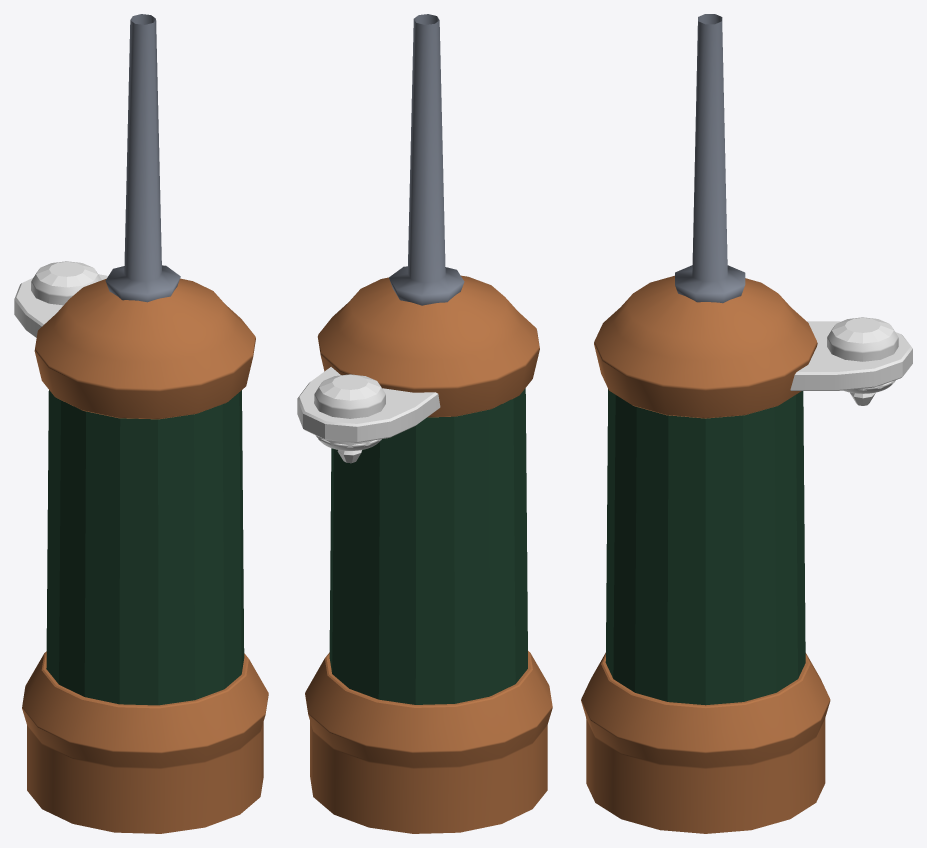
The model's file is lab_pod01.fbx.
3 views of the same model, side by side, from view 1: azimuth 30°, elevation 25°; view 2: azimuth 150°, elevation 25°; view 3: azimuth 270°, elevation 25° (orthographic).
Visible parts, largest first — view 1: glass, polySurface35, polySurface36, polySurface13, polySurface41, pCylinder23; view 2: glass, polySurface35, polySurface36, polySurface13, pCylinder23, polySurface41; view 3: glass, polySurface35, polySurface36, polySurface13, pCylinder23, polySurface41.
Part boxes in pixels (bbox=[...]): glass: bbox=[46, 390, 244, 705]; polySurface35: bbox=[22, 651, 268, 833]; polySurface36: bbox=[34, 278, 255, 419]; polySurface13: bbox=[105, 14, 180, 302]; polySurface41: bbox=[31, 261, 101, 305]; pCylinder23: bbox=[14, 274, 107, 337]; glass: bbox=[329, 388, 527, 704]; polySurface35: bbox=[305, 651, 552, 833]; polySurface36: bbox=[317, 275, 539, 417]; polySurface13: bbox=[389, 14, 464, 305]; pCylinder23: bbox=[297, 367, 440, 442]; polySurface41: bbox=[314, 374, 385, 447]; glass: bbox=[605, 389, 805, 705]; polySurface35: bbox=[581, 652, 830, 833]; polySurface36: bbox=[594, 275, 817, 418]; polySurface13: bbox=[675, 14, 745, 303]; pCylinder23: bbox=[790, 321, 912, 390]; polySurface41: bbox=[827, 317, 898, 390].
Bounding box in the file's own units: 3.29 × 11.13 × 4.38.
